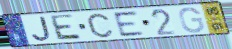2: (150, 8, 177, 37)
C: (86, 12, 115, 39)
E: (111, 10, 147, 38), (50, 14, 84, 42)
G: (178, 6, 206, 34)
J: (31, 16, 53, 43)
